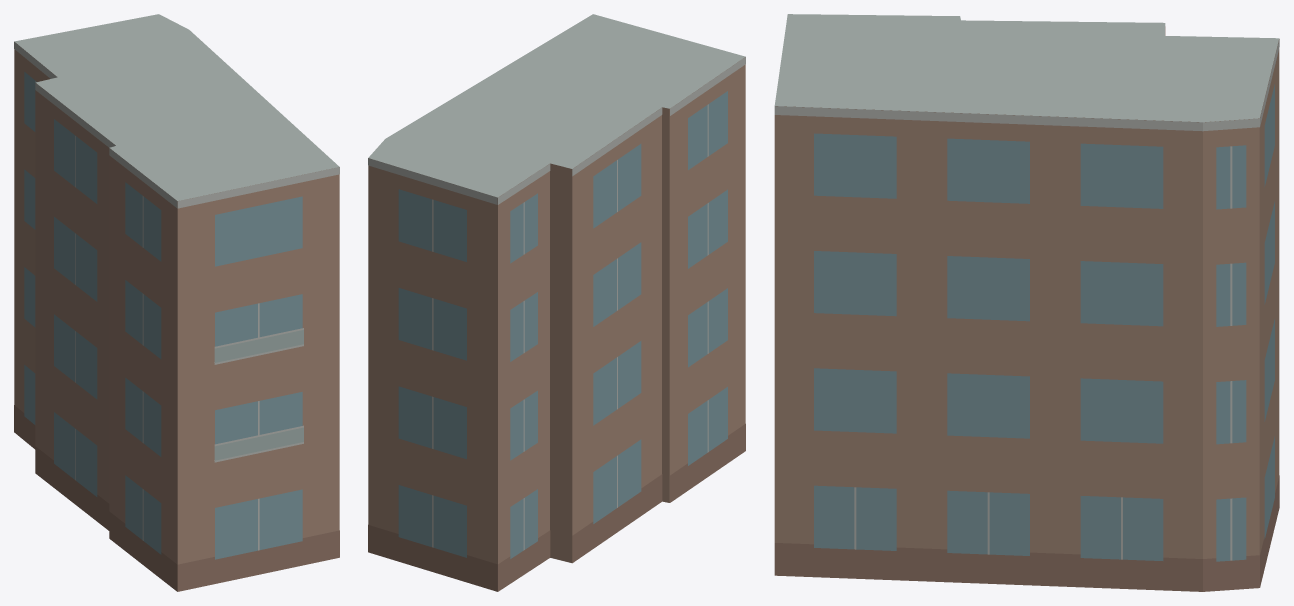
The model's file is survey-upis-32513328.glb.
3 renders of one model, left to right at view 1: azimuth 30°, elevation 25°; view 2: azimuth 150°, elevation 25°; view 3: azimuth 270°, elevation 25°, orthographic. The views are drawn at different scales.
Visible parts, largest first — view 1: survey-upis-32513328.tmp; view 2: survey-upis-32513328.tmp; view 3: survey-upis-32513328.tmp.
Boxes of the visible parts, bbox=[...] form: survey-upis-32513328.tmp: bbox=[14, 14, 339, 591]; survey-upis-32513328.tmp: bbox=[368, 14, 745, 591]; survey-upis-32513328.tmp: bbox=[774, 14, 1279, 591].
Size of the model in its own units: 6.34 by 12.8 by 12.48.
